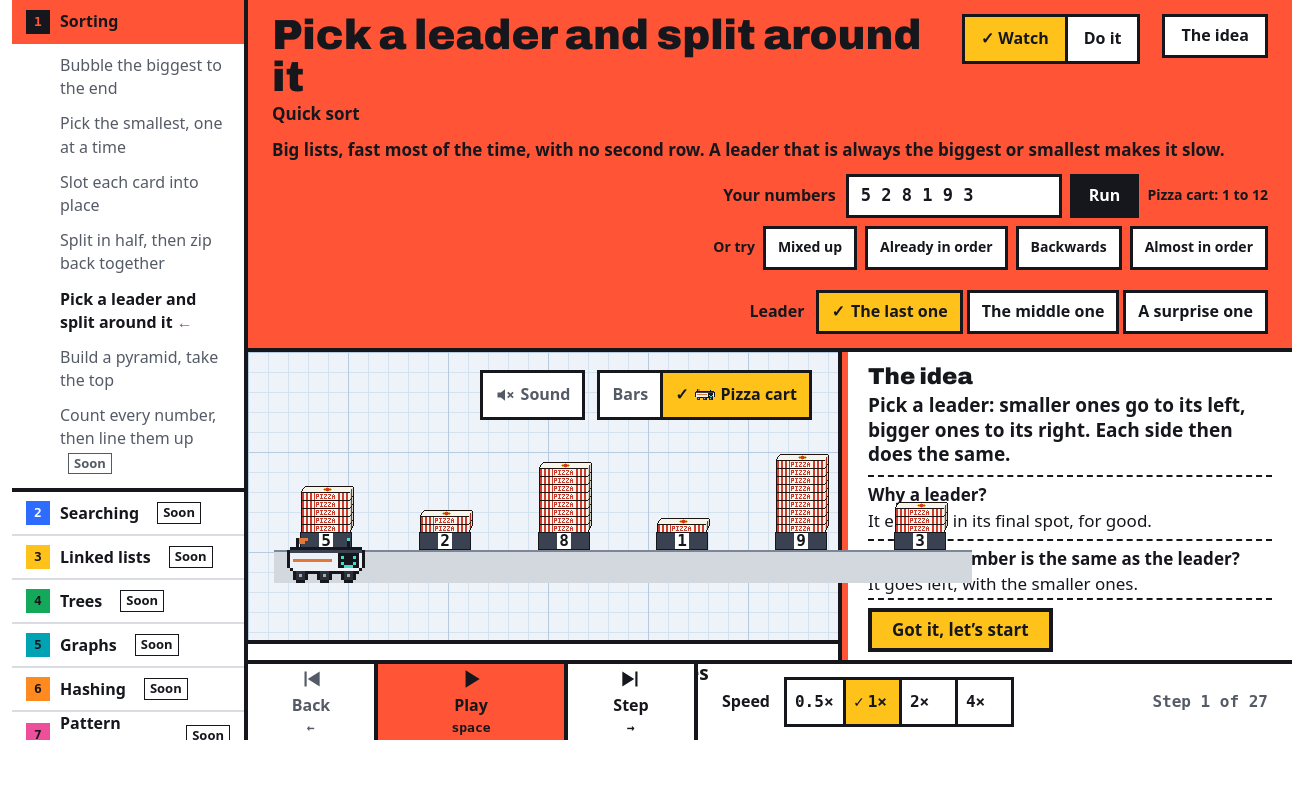
Scenario: the pizza look meets numbers (phone: false) › explorer, watch: editing a number to 31 shows bars, the message and the button
This screenshot has width=1292, height=800.
Replace the text in the field labelled "Your numbers" with "5 2 11 1 31 3": (954, 196) [846,174,1062,218]
Then press Enter
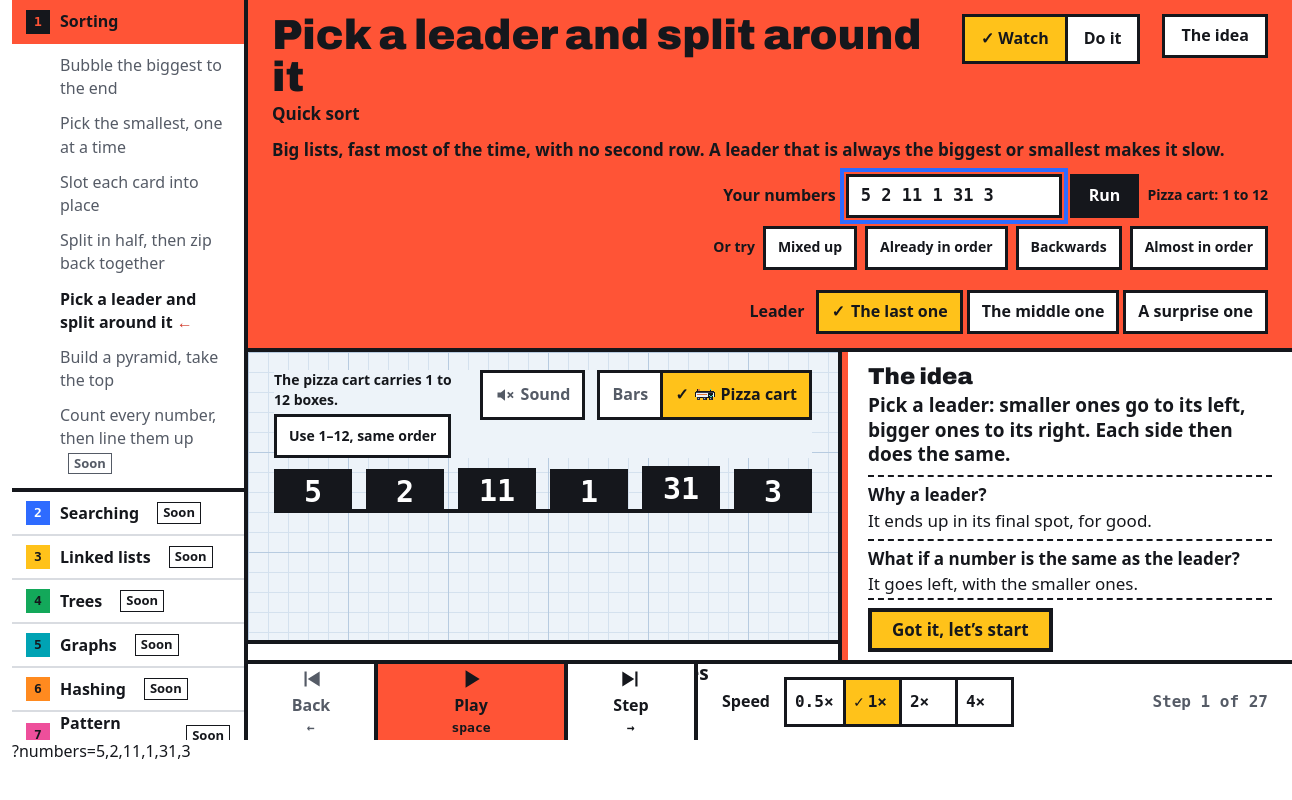
Now the element with class "stage-bar" showing "5" is shown, box [274,469,352,509]
Now the message with class "range-notice" shows "The pizza cart carries 1 to 12 boxes.", box [274,370,452,409]
Now the button "Use 1–12, same order" is shown, box [274,414,452,458]
